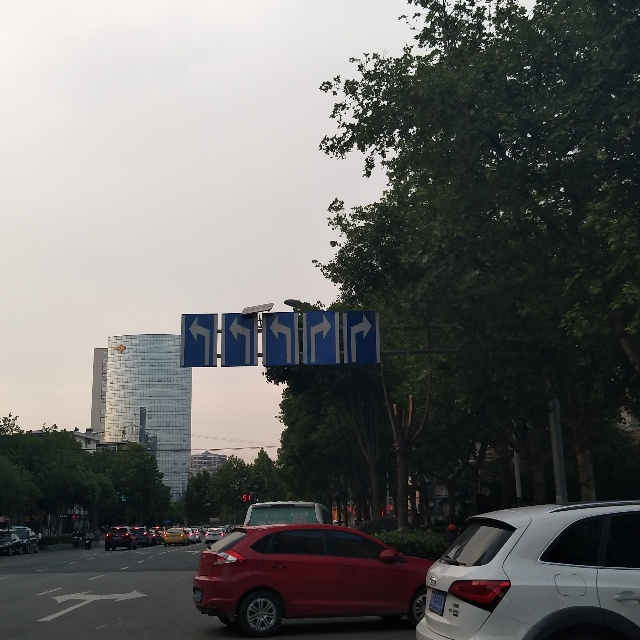left: (181, 313, 214, 368), (265, 315, 299, 368), (226, 313, 255, 368)
right: (345, 311, 380, 368), (308, 314, 337, 368)
